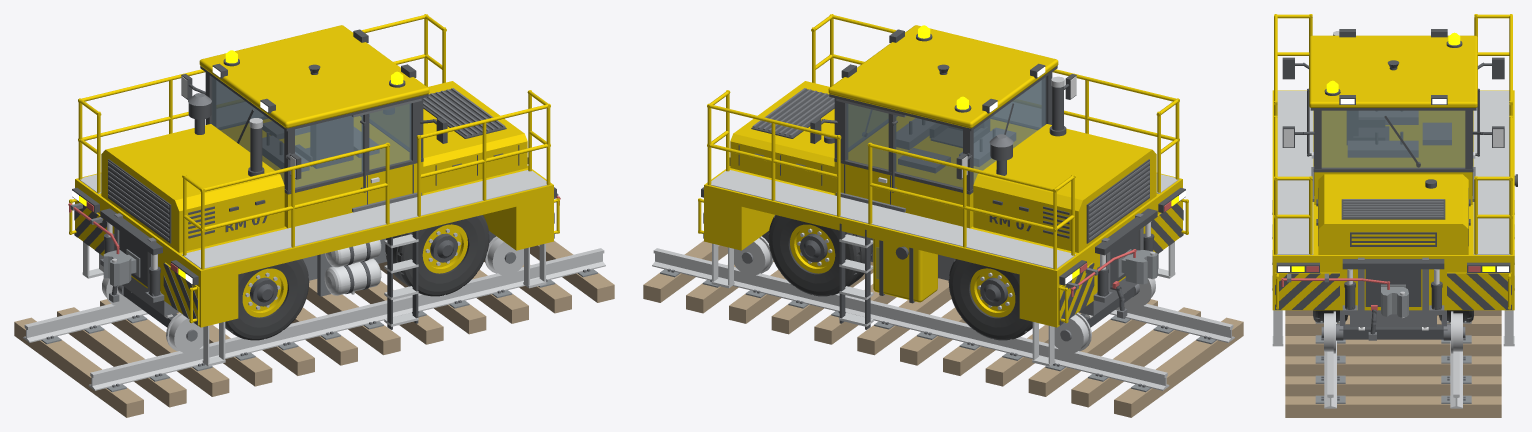
File: Road_Rail_Railcar_Mover.glb
3 renders of one model, left to right at view 1: azimuth 30°, elevation 25°; view 2: azimuth 150°, elevation 25°; view 3: azimuth 270°, elevation 25°, orthographic. The views are drawn at different scales.
Parts seen in each view (by area): view 1: rims, hubs, ties, rails, walkway_treads, fuel_gauge, spikes, tyres, tie_plates; view 2: rims, hubs, ties, rails, walkway_treads, fuel_gauge, spikes, tyres, tie_plates; view 3: rims, ties, hubs, walkway_treads, fuel_gauge, spikes, rails, tie_plates, weight_transfer_rod, tail_lights, tyres, indicators (+1 smaller).
Boxes of the visible parts, x1,y1,x2,y2 form: rims: (69,14,559,327); hubs: (72,29,556,329); ties: (14,240,614,417); rails: (23,118,605,390); walkway_treads: (79,170,546,366); fuel_gauge: (211,77,411,188); spikes: (46,88,590,387); tyres: (225,215,489,340); tie_plates: (41,249,597,392); rims: (698,14,1188,327); hubs: (701,29,1185,329); ties: (643,240,1243,417); rails: (652,76,1234,390); walkway_treads: (711,170,1178,366); fuel_gauge: (846,77,1046,279); spikes: (667,88,1211,387); tyres: (768,215,1032,340); tie_plates: (660,164,1216,392); rims: (1272,14,1514,310); ties: (1285,310,1501,417); hubs: (1275,29,1517,339); walkway_treads: (1272,90,1514,346); fuel_gauge: (1321,110,1465,167); spikes: (1287,111,1475,400); rails: (1324,31,1462,408); tie_plates: (1315,284,1471,403); weight_transfer_rod: (1283,129,1503,330); tail_lights: (1281,266,1480,310); tyres: (1313,310,1473,322); indicators: (1291,32,1495,271).
Size of the model in its own units: 136 by 64.94 by 58.9.
